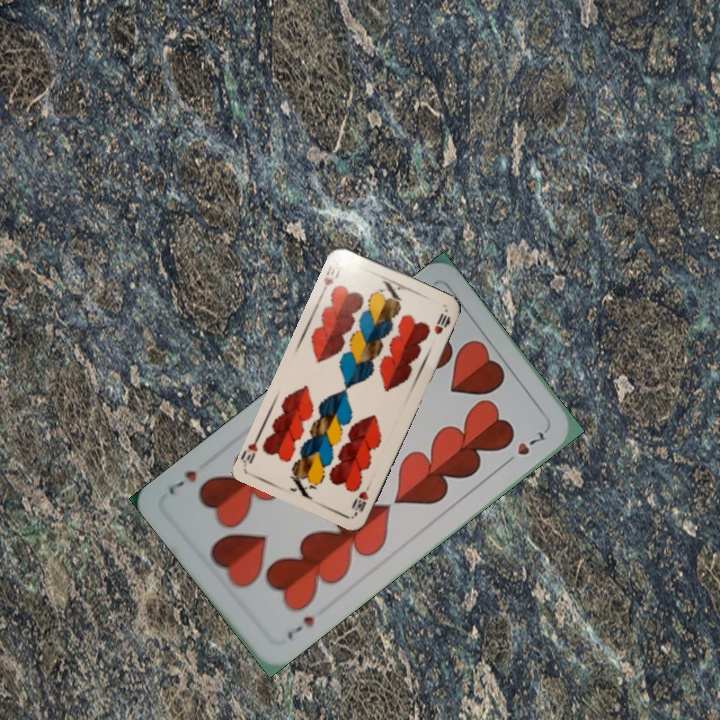H10: (319, 261, 345, 296), (349, 479, 374, 514)
H7: (283, 612, 317, 642)
